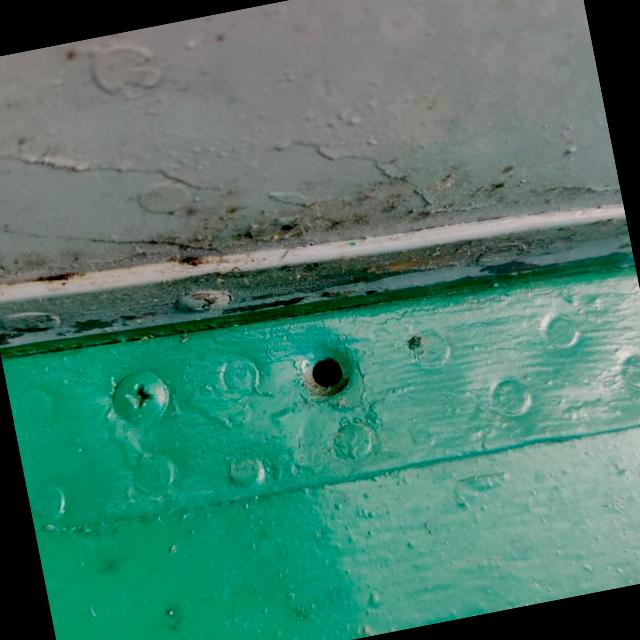Missing Fastener: (282, 328, 364, 412)
